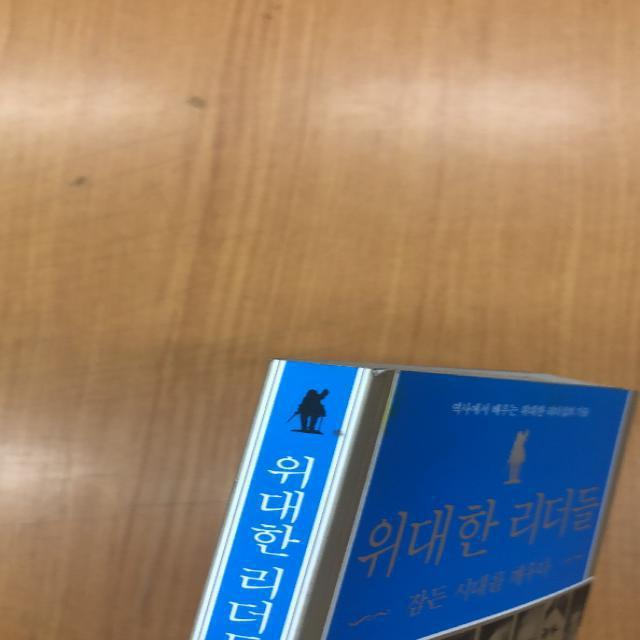Wornout: (267, 353, 359, 372), (362, 365, 408, 378)
